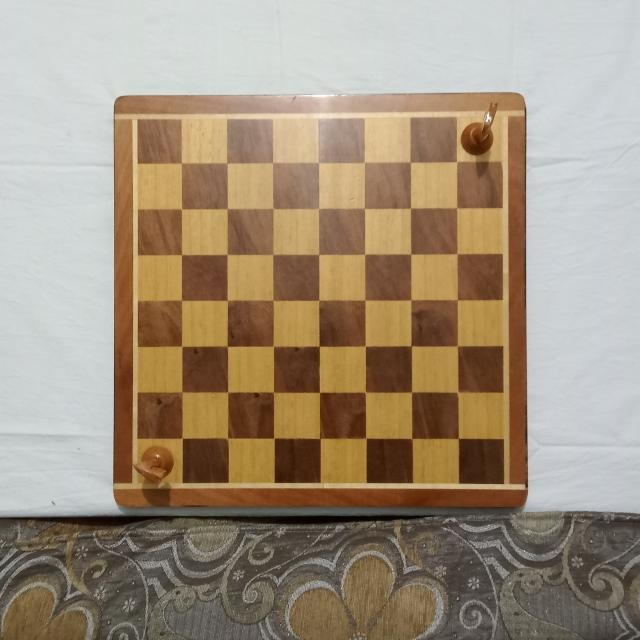white-knight: (457, 99, 498, 157), (135, 444, 176, 482)
